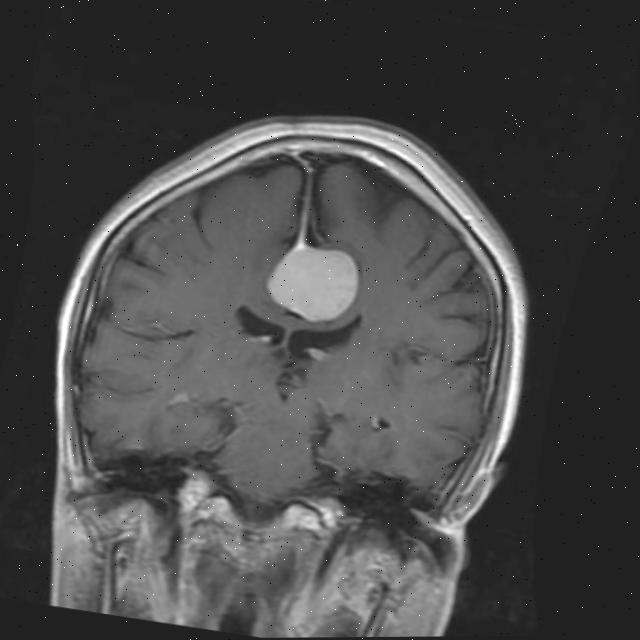Meningioma: (257, 227, 369, 329)
